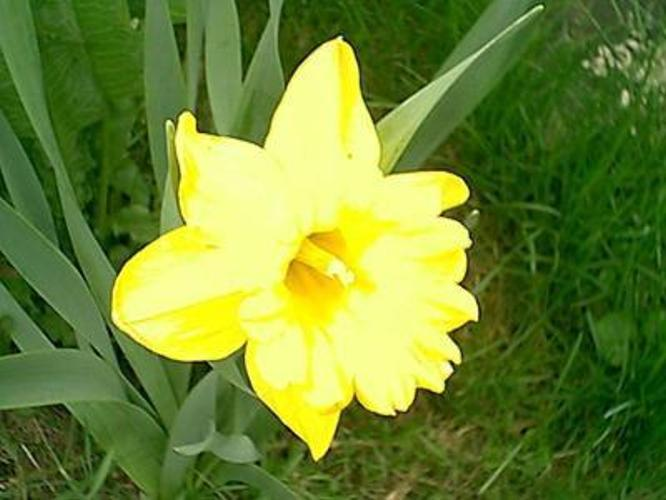flower1: (111, 36, 483, 462)
